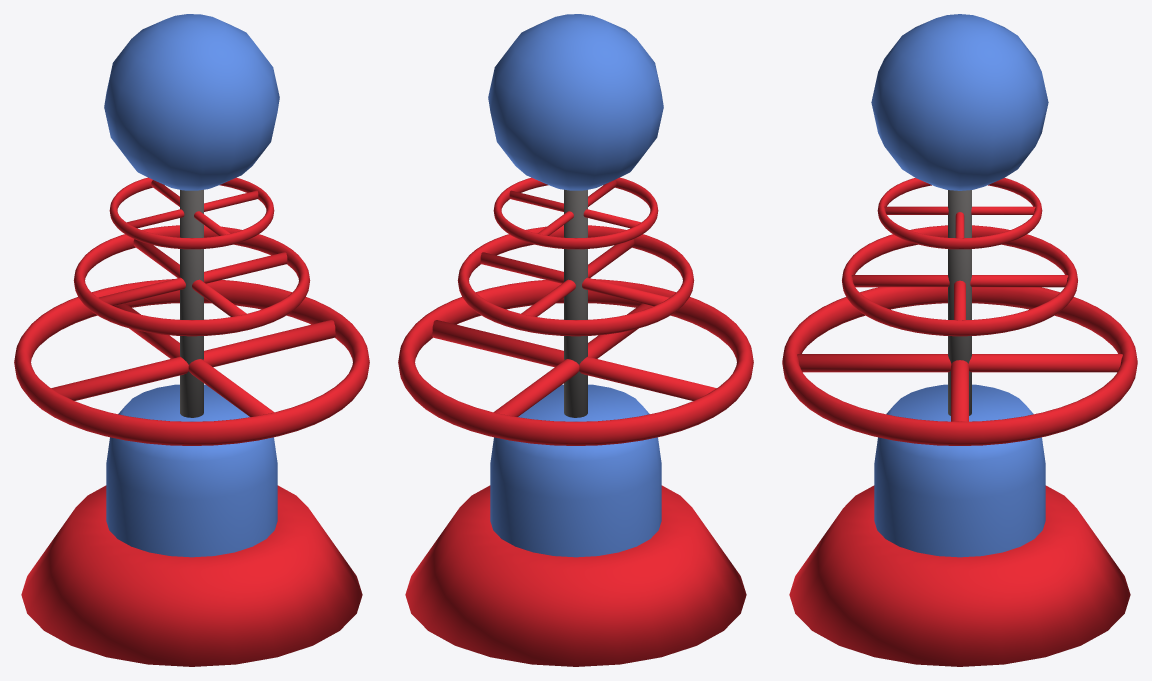
File: Obstacle 29 V1.fbx
3 views of the same model, side by side, from view 1: azimuth 30°, elevation 25°; view 2: azimuth 150°, elevation 25°; view 3: azimuth 270°, elevation 25° (orthographic).
Visible parts, largest first — view 1: 029 Part 1; view 2: 029 Part 1; view 3: 029 Part 1.
Boxes of the visible parts, box(x1,y1,x2,y2) form: 029 Part 1: box(14, 14, 369, 666); 029 Part 1: box(398, 14, 753, 666); 029 Part 1: box(782, 14, 1137, 666).
Bounding box in the file's own units: 66.38 × 118 × 66.38.
Materials: 1 (1 with a texture image).
